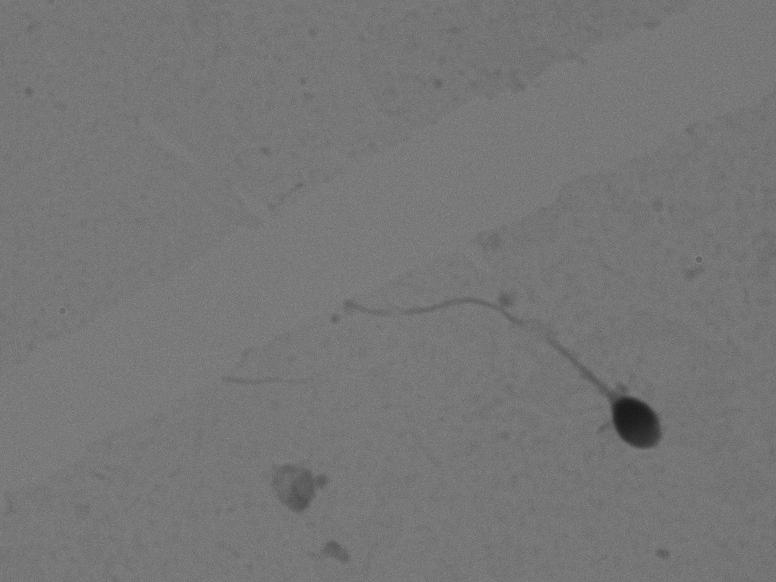Abnormal: (332, 256, 694, 499)
